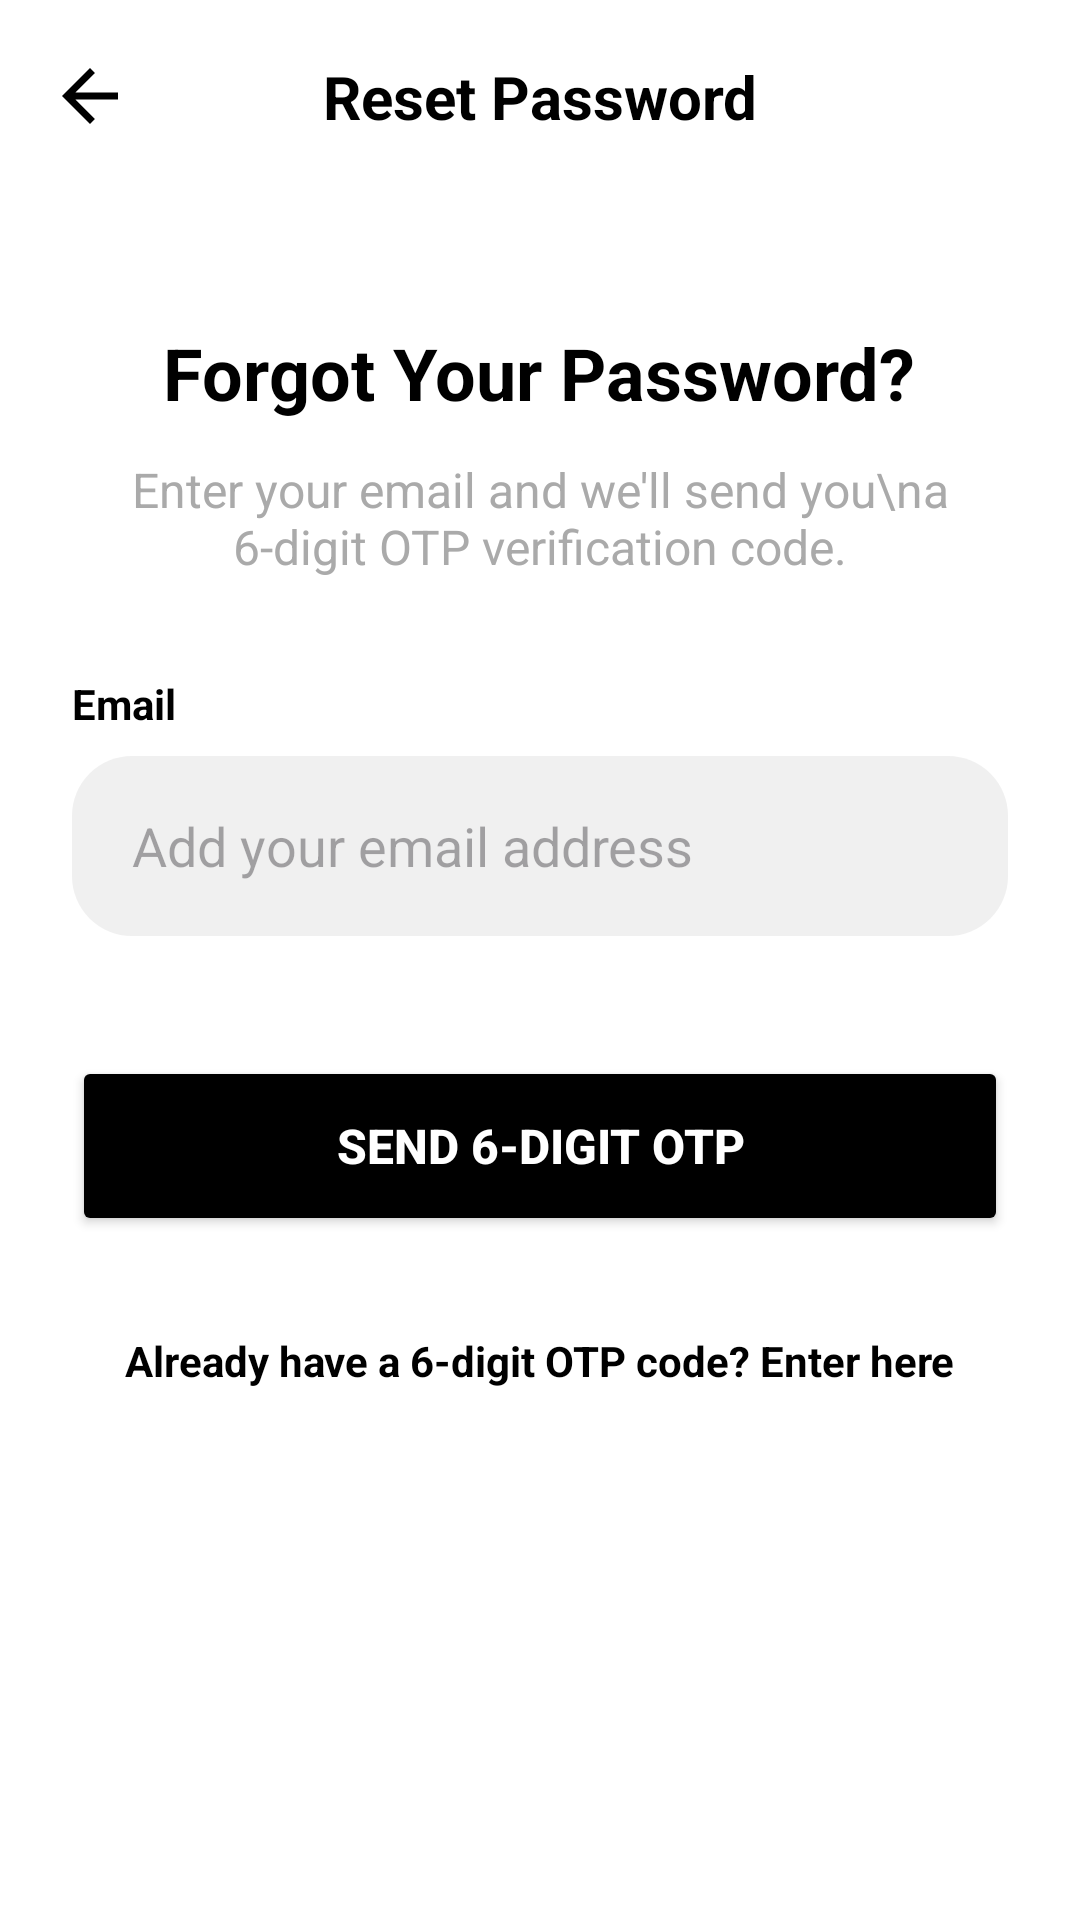

Icons on this 1080px x 1920px Android screen, each with the point to tap as (x,y):
arrow back: (90,96)
